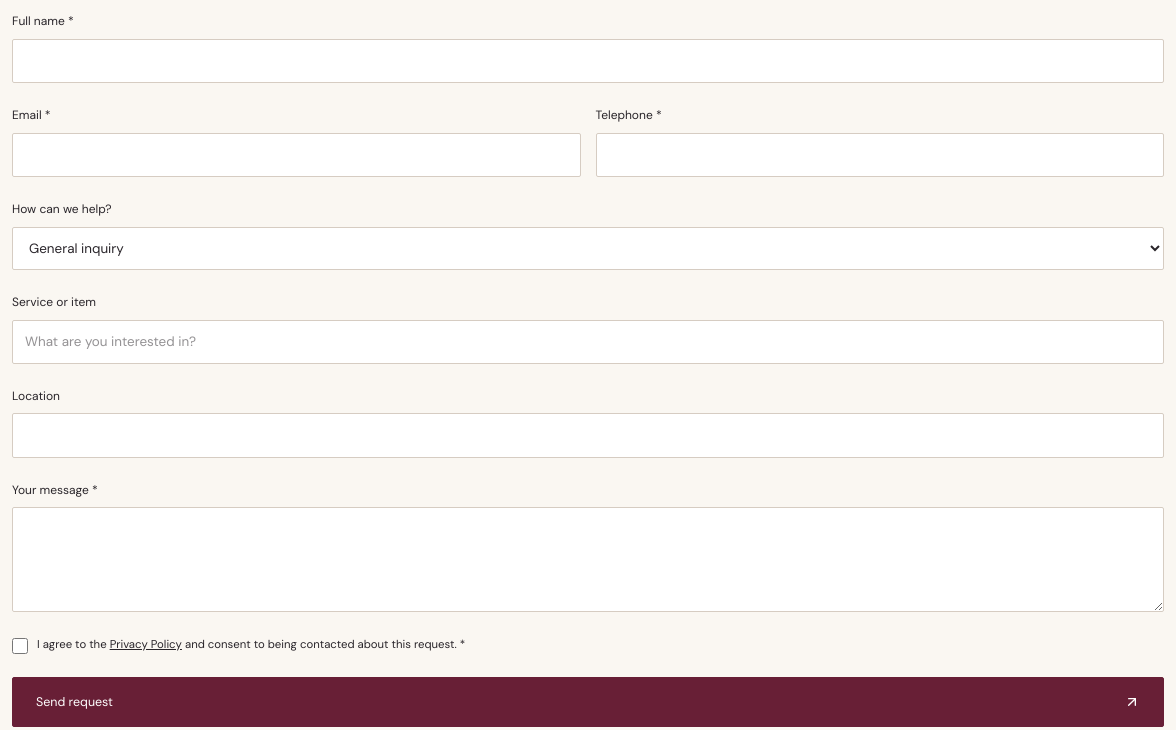
Scenario: Customer request flow › shows server errors rather than successful submission
Type "Test Customer" into the field labelled "Full name *".
click(588, 61); type("Test Customer")  # box top-left (12, 39), bottom-right (1164, 83)
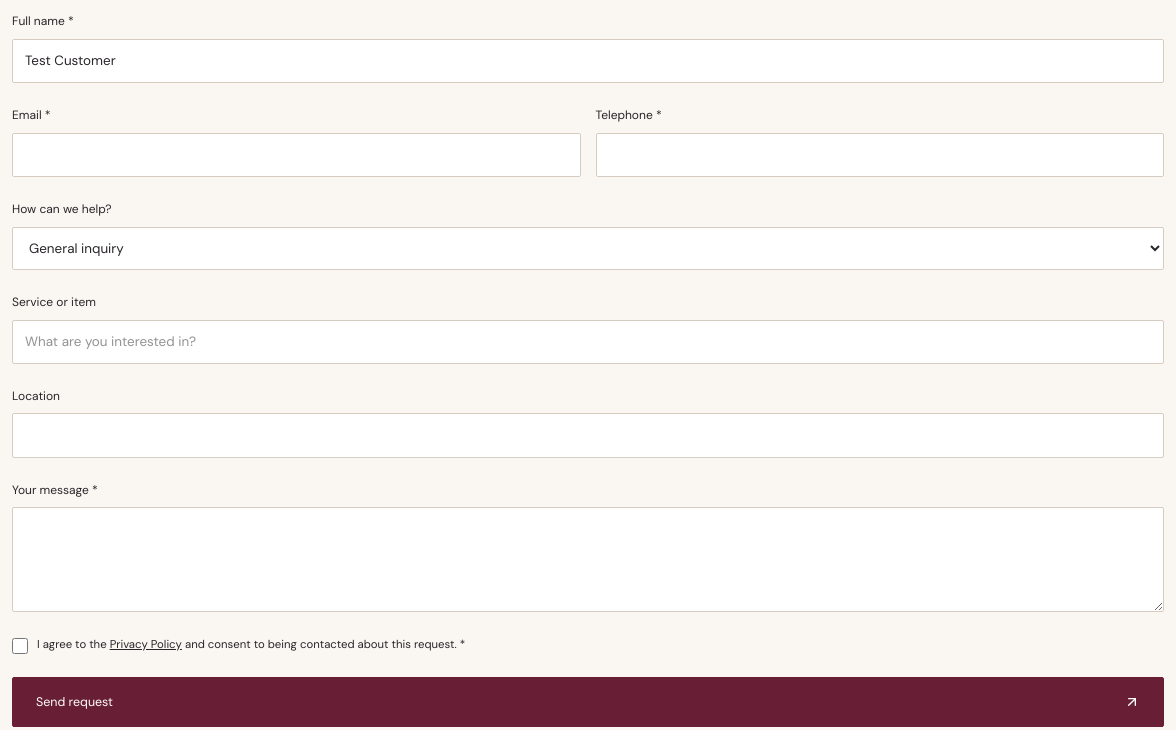
Type "customer@example.test" into the field labelled "Email *".
click(296, 155); type("customer@example.test")  # box top-left (12, 133), bottom-right (580, 177)
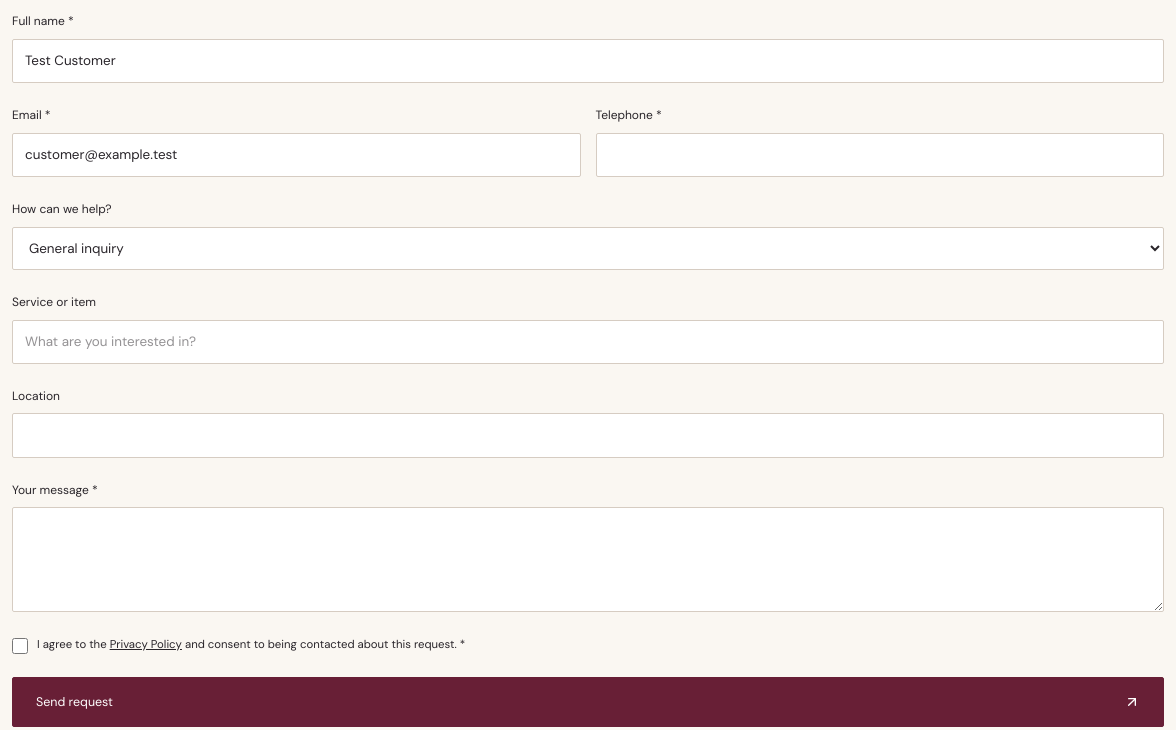
Type "+211924265999" into the field labelled "Telephone *".
click(880, 155); type("+211924265999")  # box top-left (596, 133), bottom-right (1164, 177)
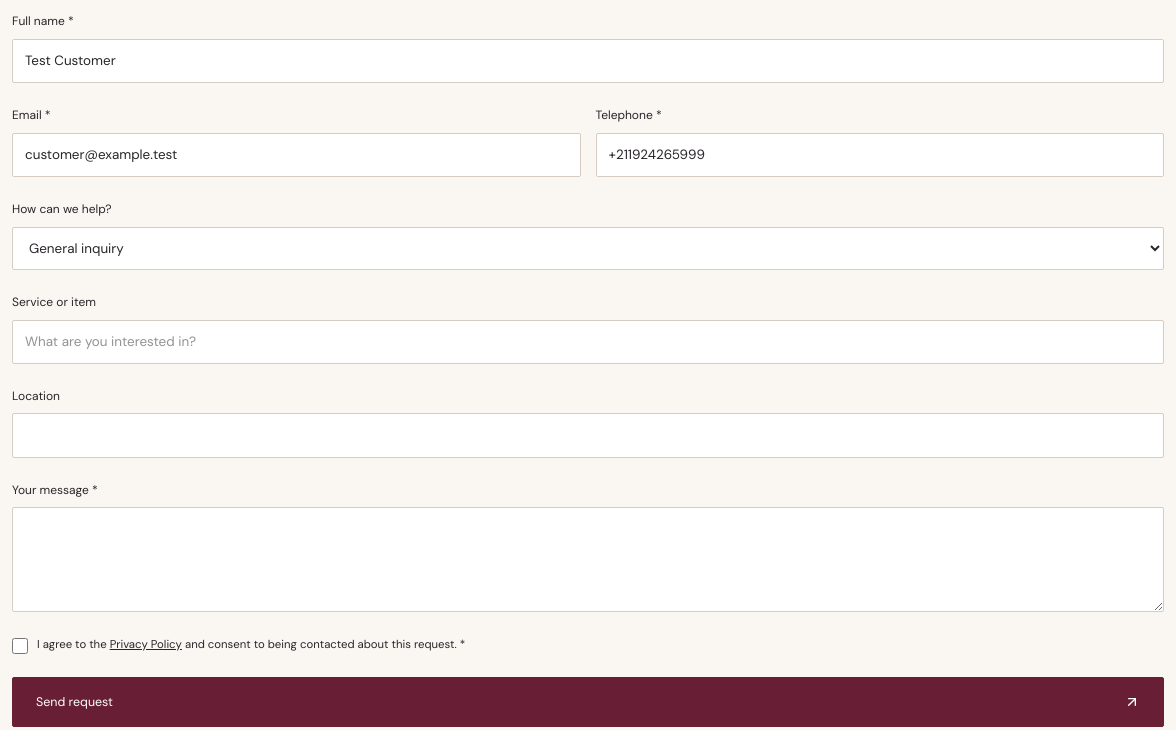
Type "Please help me find a property." into the text box labelled "Your message *".
click(588, 560); type("Please help me find a property.")  # box top-left (12, 507), bottom-right (1164, 612)
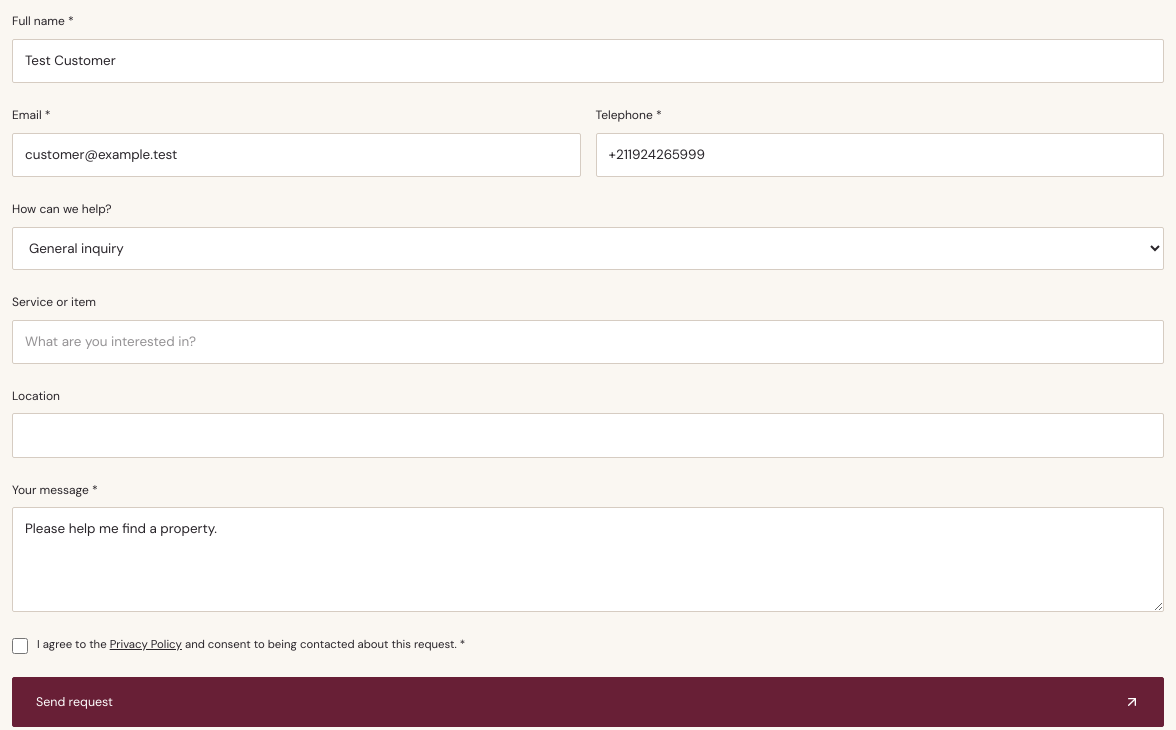
Click the checkbox.
click(20, 646)  # box top-left (12, 638), bottom-right (28, 654)
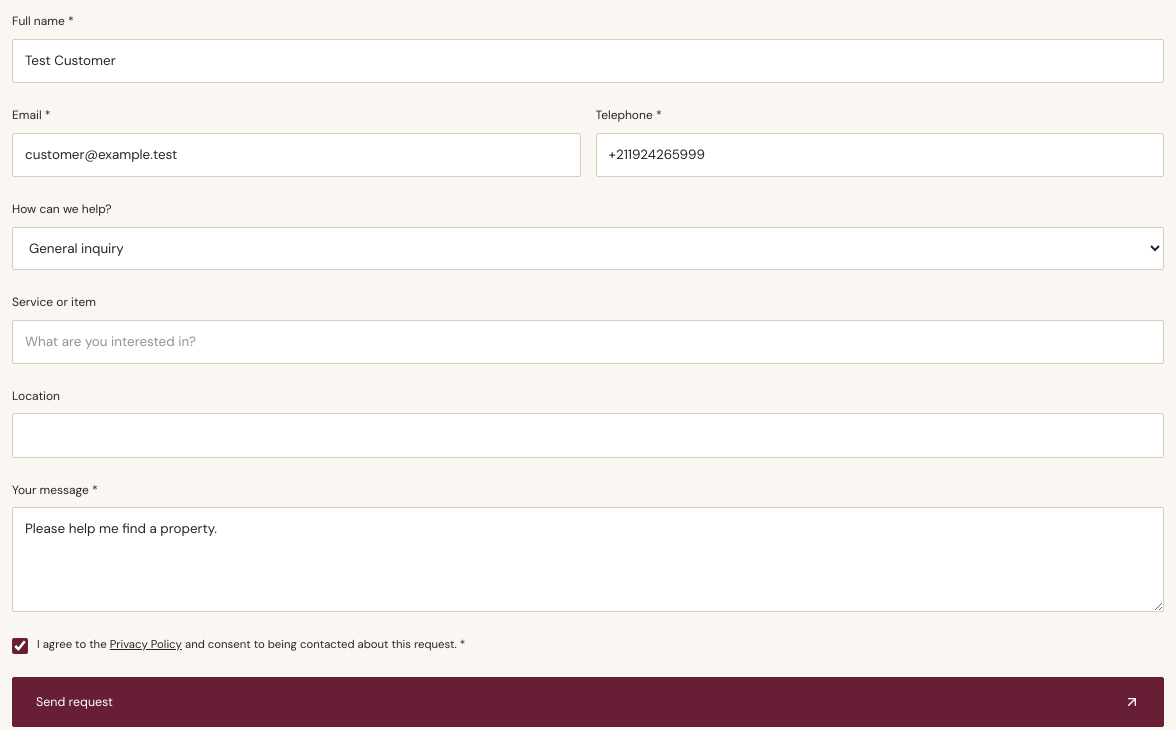
Click the button "Send request".
click(74, 702)  # box top-left (12, 677), bottom-right (1164, 727)
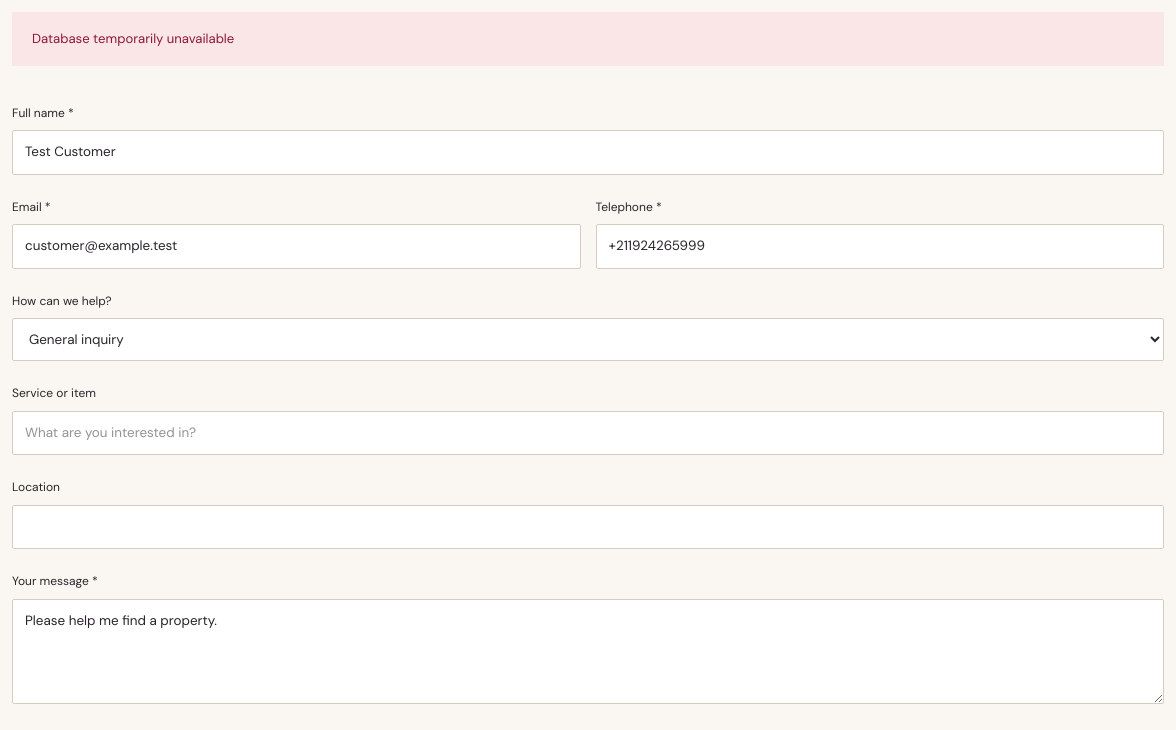
Result: the message reads "Database temporarily unavailable" at top-left (32, 30), bottom-right (234, 47)
